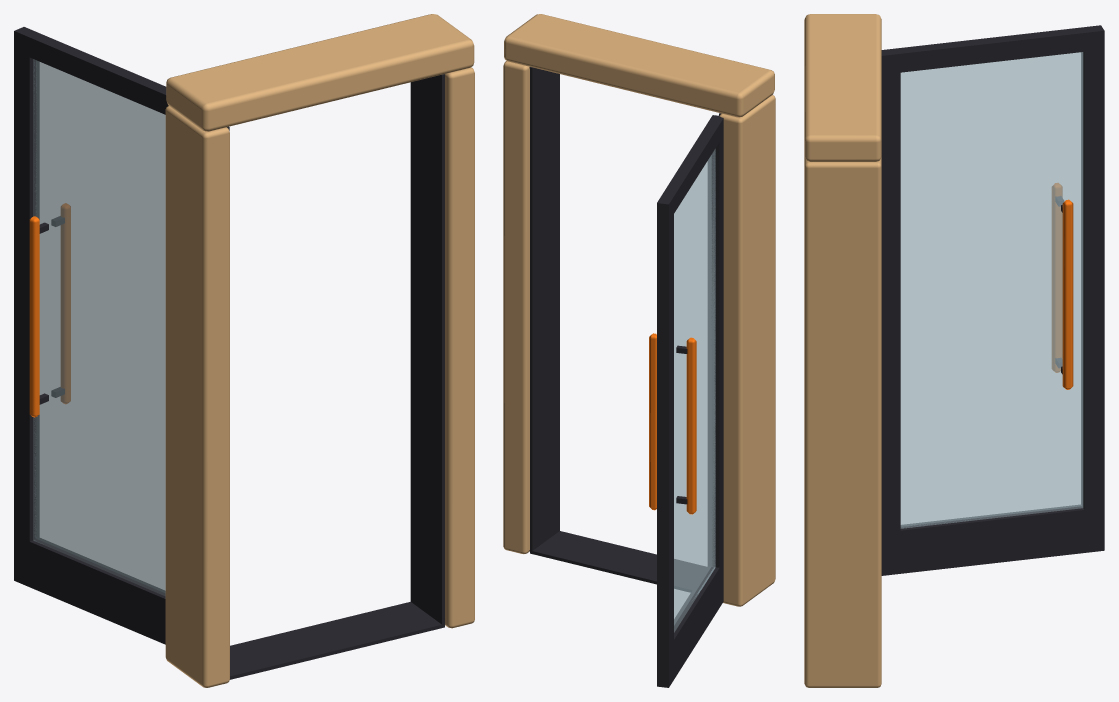
File: wand_sockel_tuer.glb
3 renders of one model, left to right at view 1: azimuth 30°, elevation 25°; view 2: azimuth 150°, elevation 25°; view 3: azimuth 270°, elevation 25°, orthographic. The views are drawn at different scales.
Visible parts, largest first — view 1: wand_sockel_tuer; view 2: wand_sockel_tuer; view 3: wand_sockel_tuer.
Part boxes in pixels (x1=…): wand_sockel_tuer: x1=14, y1=14, x2=474, y2=687; wand_sockel_tuer: x1=503, y1=14, x2=775, y2=687; wand_sockel_tuer: x1=804, y1=14, x2=1104, y2=687.
Bounding box in the file's own units: 1.15 × 2.05 × 1.01.
